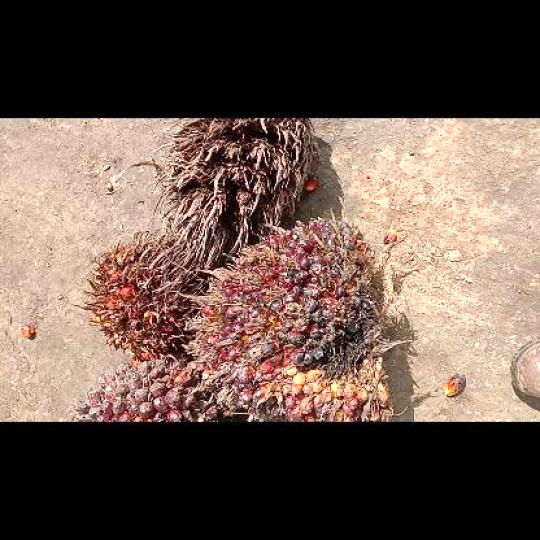kurang masak: (65, 356, 228, 421)
masak: (179, 218, 414, 421)
terlalu masak: (72, 231, 214, 364)
